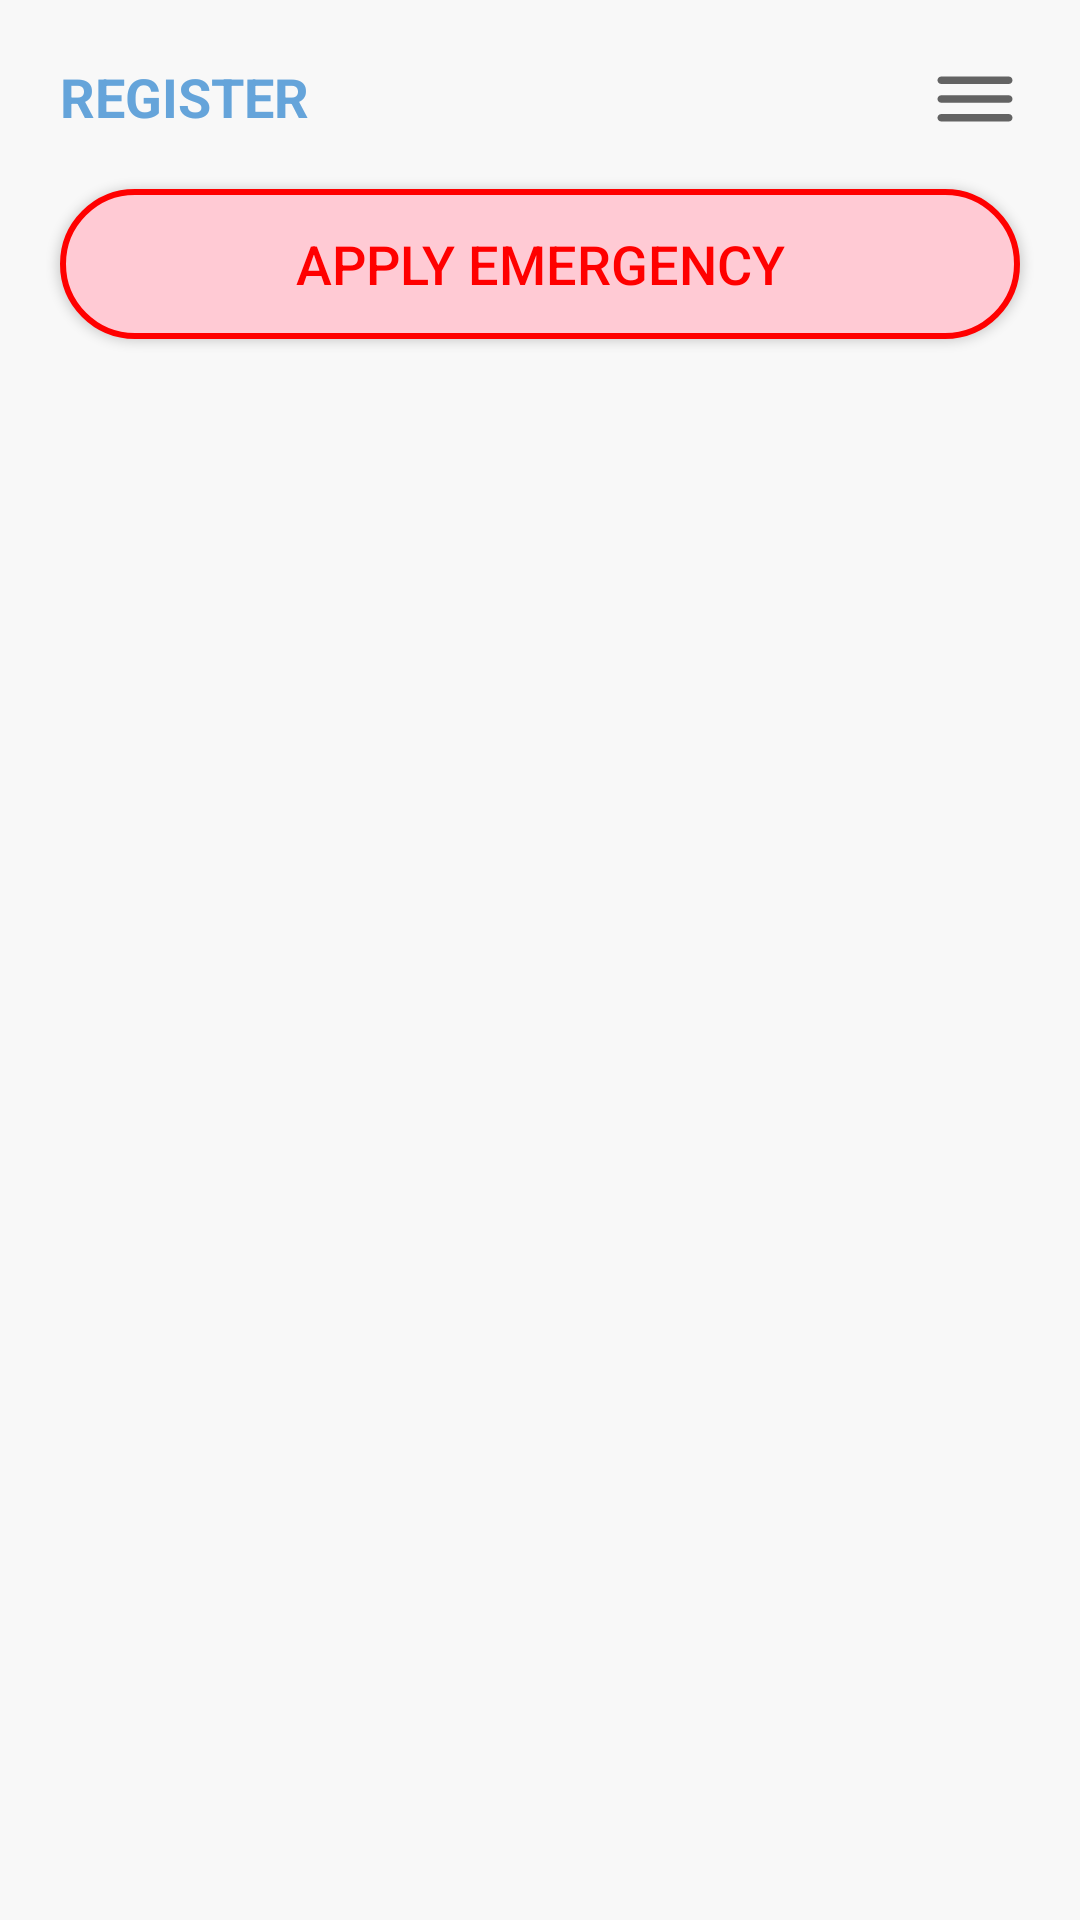

Icon bounding boxes for this 1080px×1920px phone screenshot, format Rect(x1, y1, x2, y2):
hamberger: Rect(937, 76, 1013, 122)
